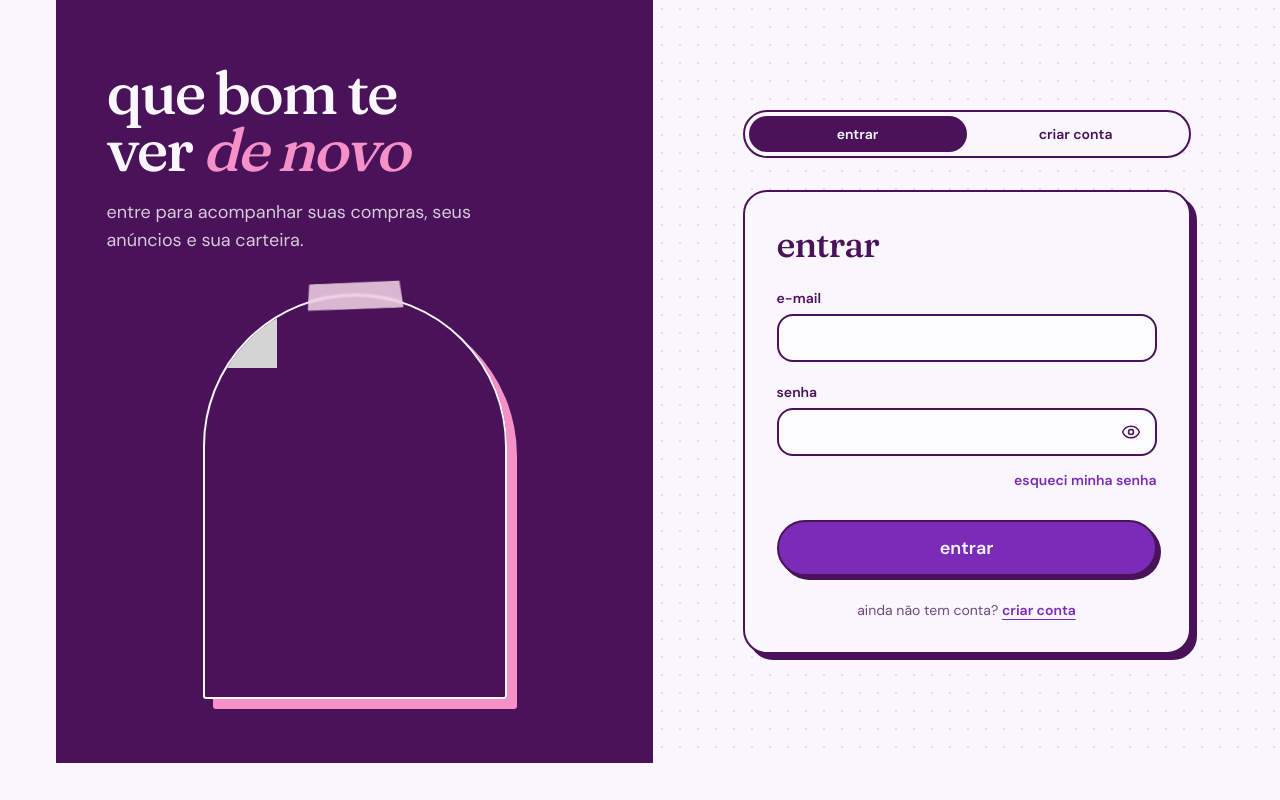
Scenario: PaginaConta › se o serviço de contas não responder, avisa sem fingir que entrou
Type "ana@exemplo.com" into the field labelled "e-mail" at (966, 338), box [776, 314, 1156, 362]
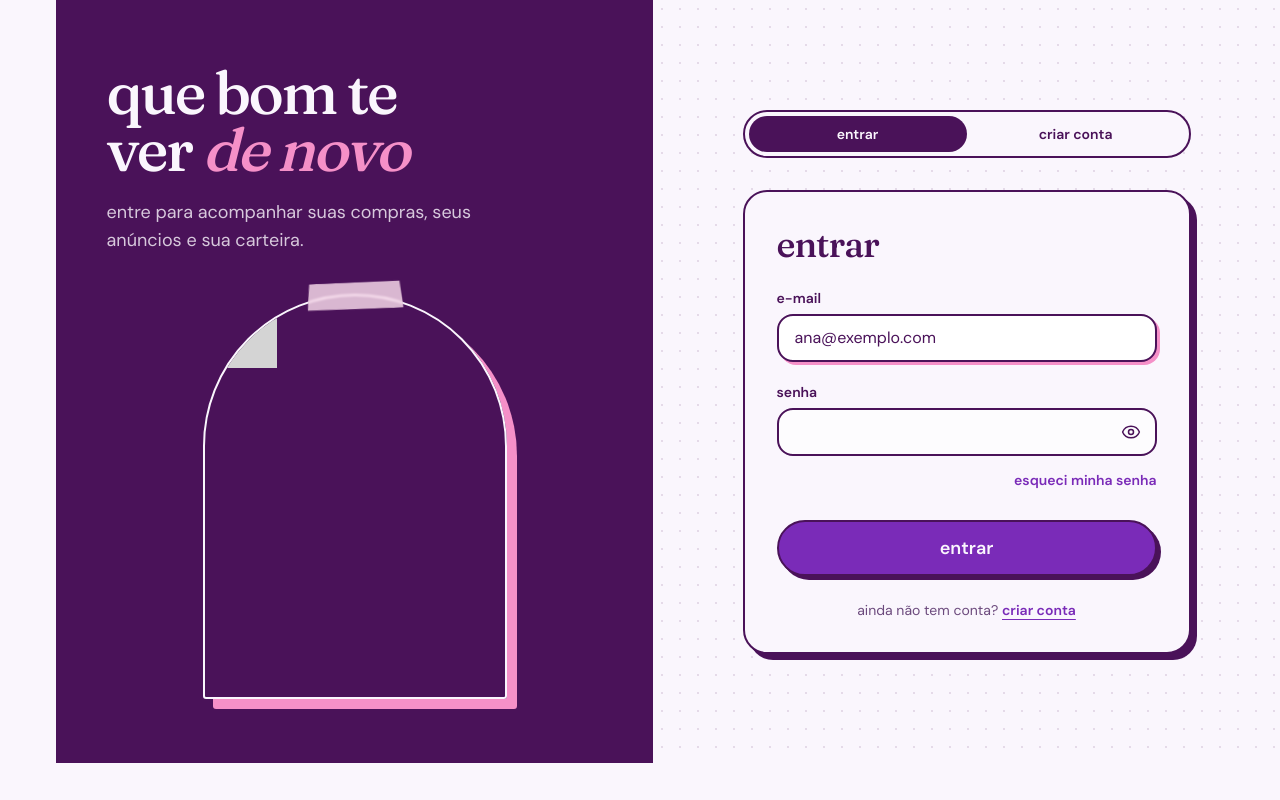
Type "garimpo123" into the password field labelled "senha" at (966, 432), box [776, 408, 1156, 456]
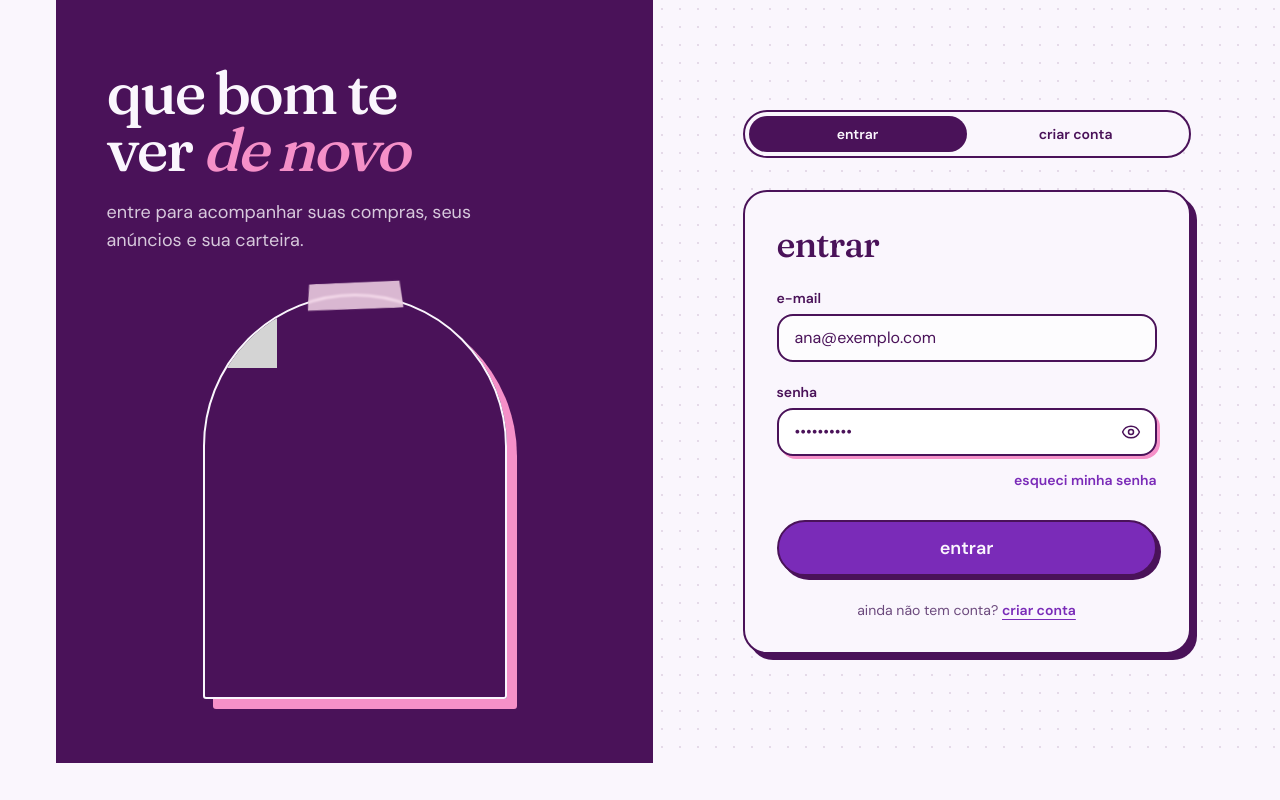
Click the button "entrar" at (966, 548), box [776, 520, 1156, 576]
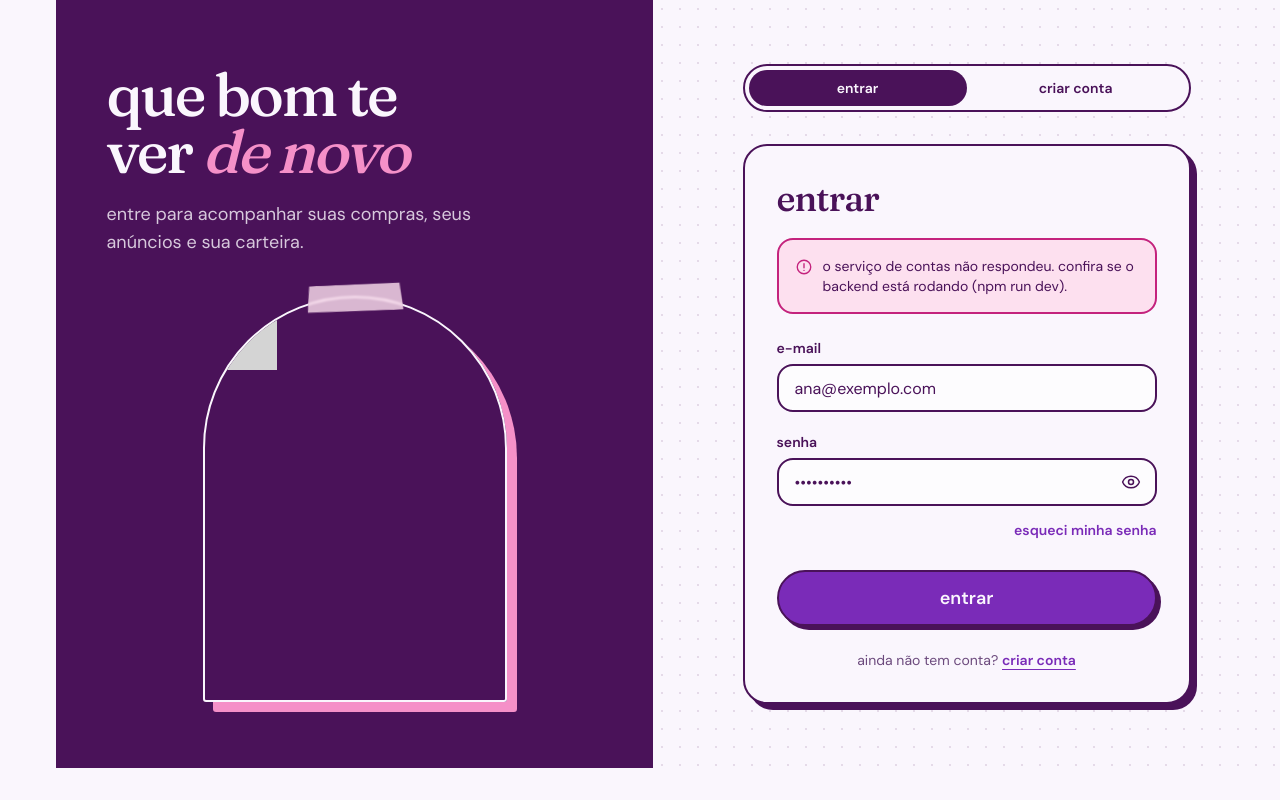
Expected: the message shows "serviço de contas não respondeu", [822, 257, 1134, 295]
